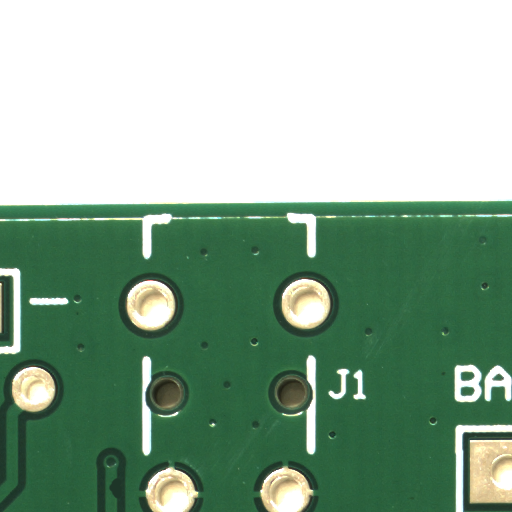Mouse_bite: (113, 488, 123, 509)
